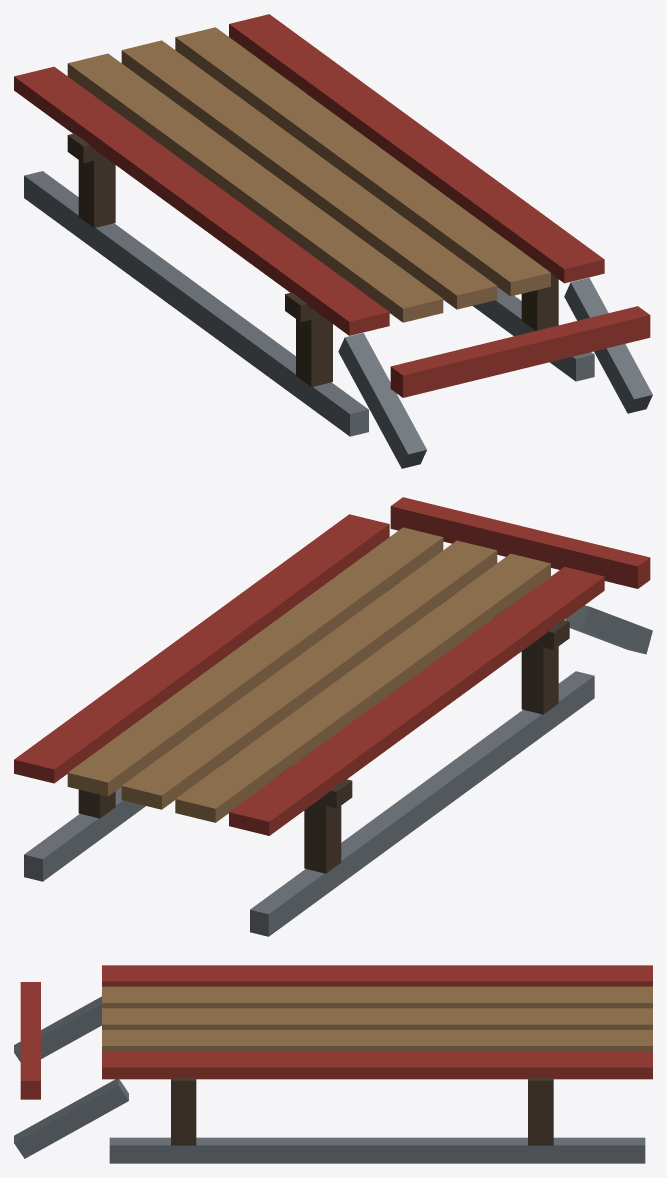
Rendered from sled.glb.
3 renders of one model, top to bottom at view 1: azimuth 30°, elevation 25°; view 2: azimuth 150°, elevation 25°; view 3: azimuth 270°, elevation 25°, orthographic. The views are drawn at different scales.
Parts seen in each view (by area): view 1: sled; view 2: sled; view 3: sled.
Boxes of the visible parts, x1,y1,x2,y2 form: sled: (14, 14, 652, 468); sled: (14, 497, 652, 936); sled: (14, 965, 652, 1163).
Size of what is drawn, in the model's own units: 0.5 by 0.2125 by 1.25.
Materials: 1 (1 with a texture image).
